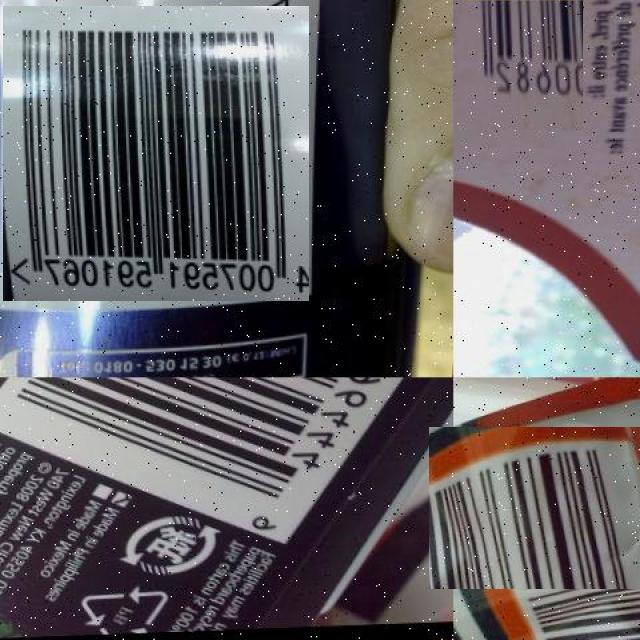Barcode: (5, 3, 306, 304), (0, 377, 453, 557), (453, 402, 640, 614), (453, 0, 583, 131)
